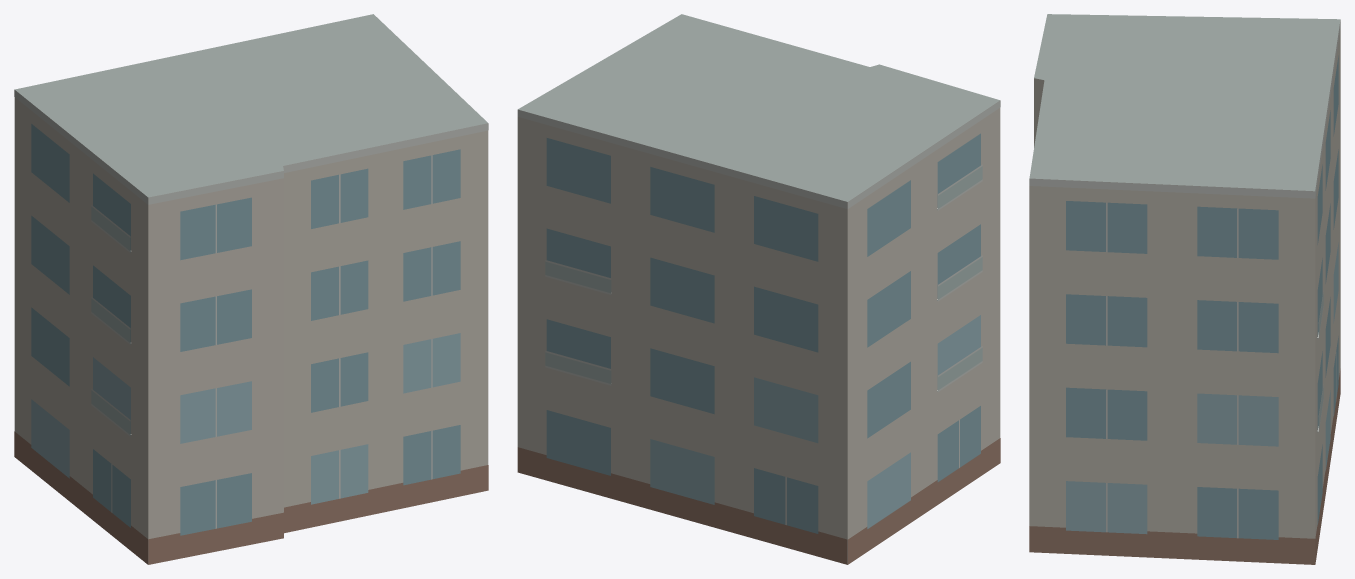
The model's file is survey-upis-32974077.glb.
3 views of the same model, side by side, from view 1: azimuth 30°, elevation 25°; view 2: azimuth 150°, elevation 25°; view 3: azimuth 270°, elevation 25° (orthographic). The views are drawn at different scales.
Visible parts, largest first — view 1: survey-upis-32974077.tmp; view 2: survey-upis-32974077.tmp; view 3: survey-upis-32974077.tmp.
Part boxes in pixels (left/top/right/bottom): survey-upis-32974077.tmp: left=14, top=14, right=488, bottom=564; survey-upis-32974077.tmp: left=517, top=14, right=1000, bottom=564; survey-upis-32974077.tmp: left=1029, top=14, right=1340, bottom=564.
Bounding box in the file's own units: 12.42 × 12.2 × 9.22.
